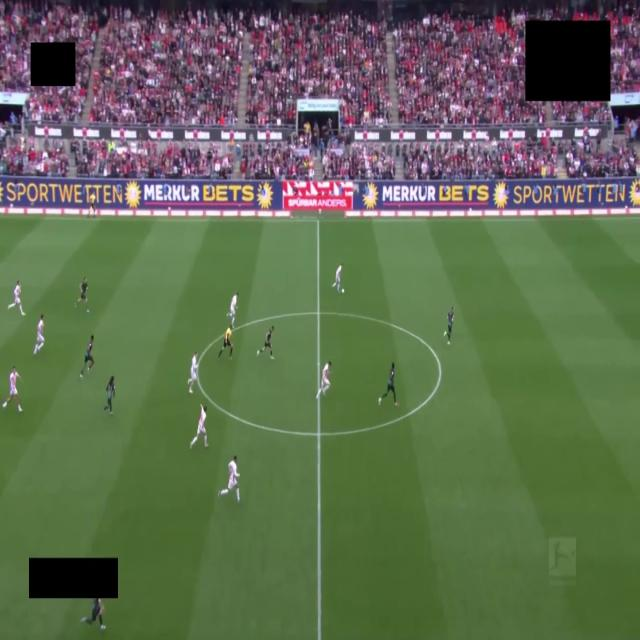ball: (341, 288, 344, 293)
player: (219, 456, 239, 502), (2, 367, 22, 412), (379, 363, 398, 407), (81, 599, 105, 631), (190, 405, 208, 447), (316, 361, 332, 399), (80, 336, 94, 379), (8, 280, 25, 315), (257, 326, 274, 359), (101, 376, 115, 415), (76, 277, 88, 312), (34, 314, 44, 355), (227, 292, 238, 327), (444, 306, 454, 344), (188, 352, 197, 393), (332, 264, 342, 293)
referee: (218, 327, 232, 357)
